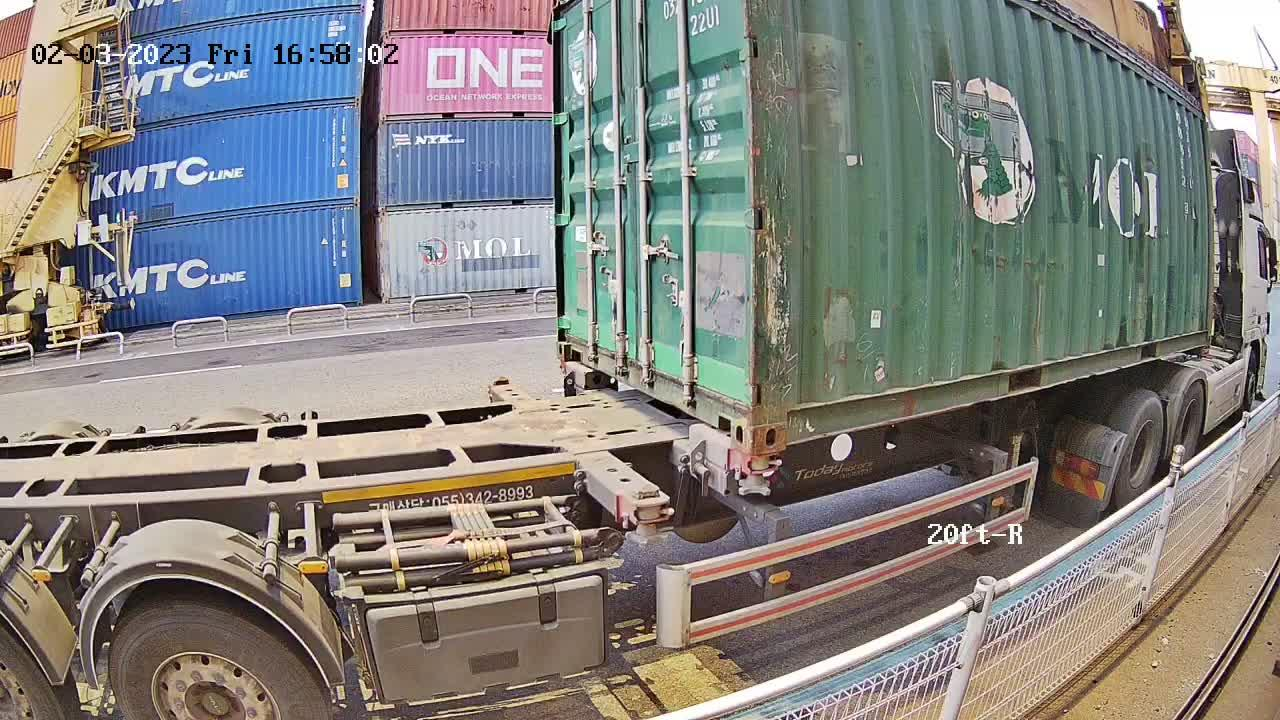Chassis: (559, 359, 753, 480)
Cone: (733, 451, 781, 499)
Hole_L: (752, 380, 822, 458), (557, 321, 592, 369)
Hole_R: (706, 368, 752, 455)
Tire: (1118, 395, 1165, 509), (1175, 380, 1205, 471)
